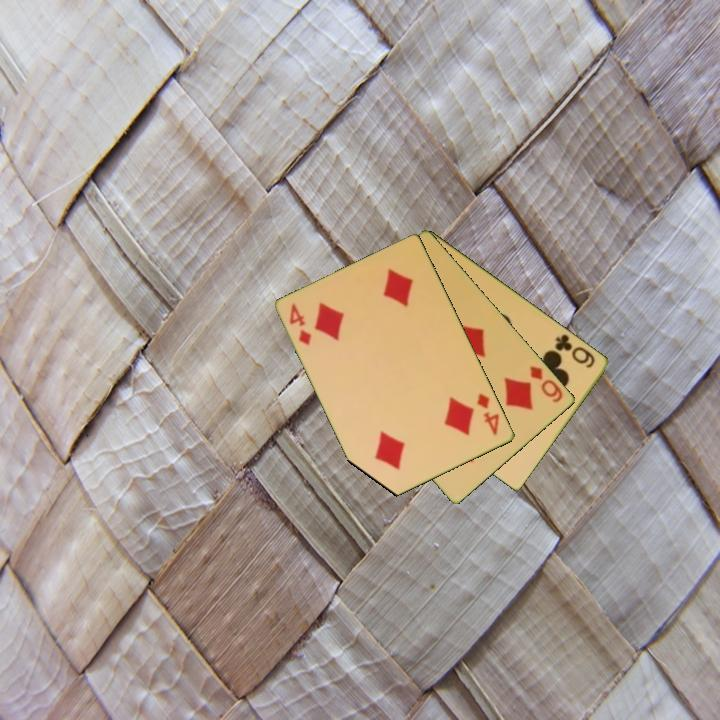4d: (473, 390, 503, 438), (286, 300, 315, 349)
6c: (552, 330, 598, 371)
6d: (527, 362, 566, 406)
